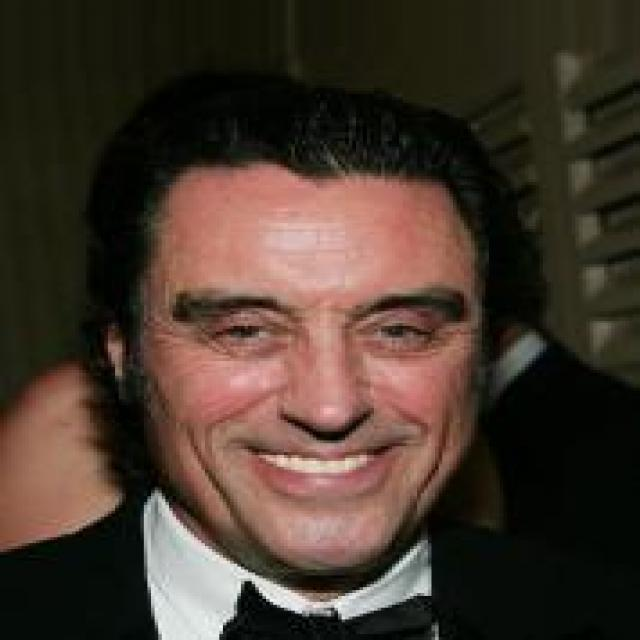nomask: (94, 106, 528, 552)
